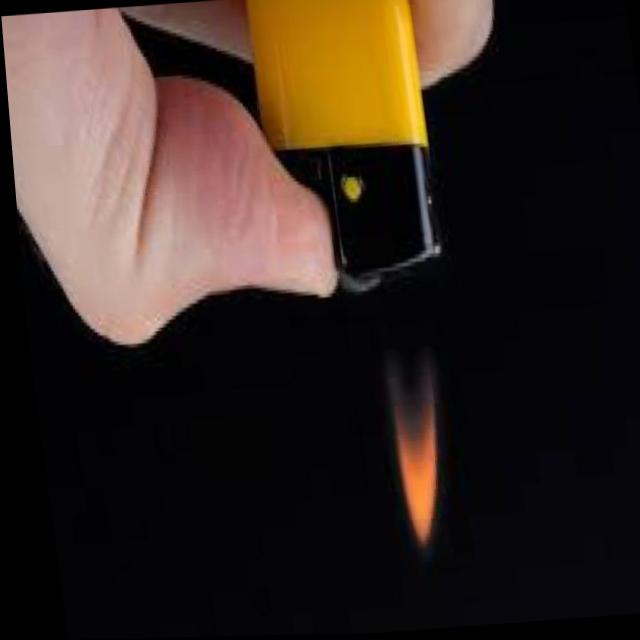Fire: (339, 254, 471, 580)
